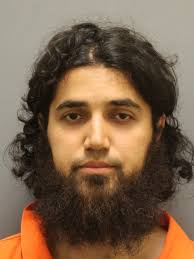middle_eastern_male: (40, 59, 152, 197)
